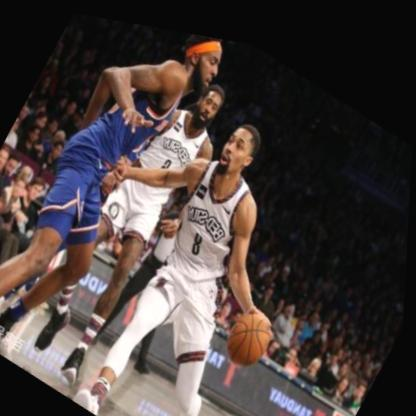basketball: (222, 293, 281, 368)
